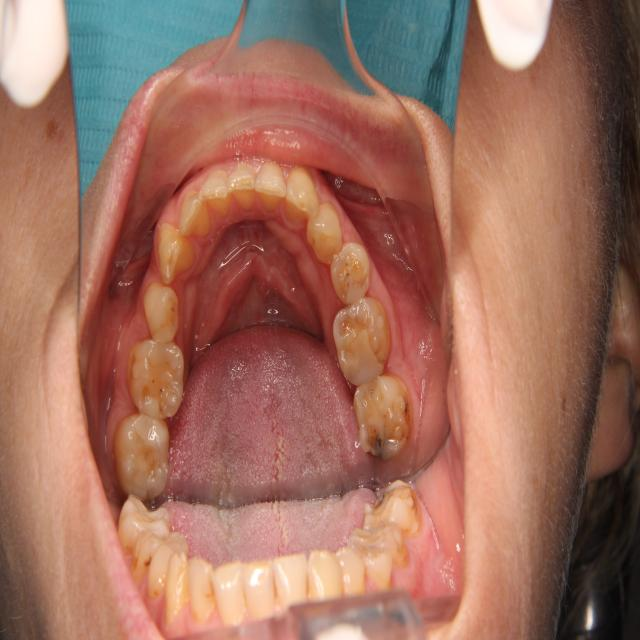tooth: (121, 332, 195, 425), (109, 406, 175, 507), (349, 369, 415, 465), (330, 294, 395, 389), (135, 276, 192, 349), (324, 240, 375, 307), (152, 218, 200, 286), (304, 202, 349, 268), (282, 155, 321, 228), (175, 187, 214, 244), (224, 154, 259, 216), (254, 155, 287, 218), (199, 165, 235, 222)
